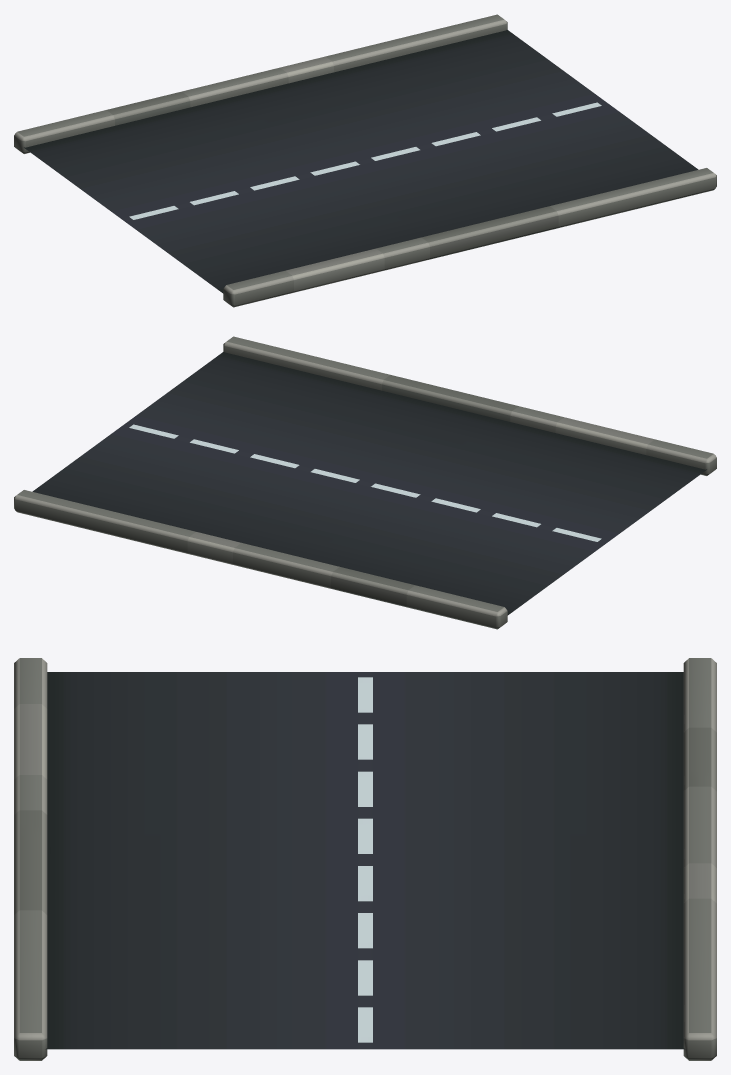
The model's file is road_straight.glb.
3 views of the same model, one above another, from view 1: azimuth 30°, elevation 25°; view 2: azimuth 150°, elevation 25°; view 3: azimuth 270°, elevation 25° (orthographic). The views are drawn at different scales.
Parts seen in each view (by area): view 1: road_section_x8; view 2: road_section_x8; view 3: road_section_x8.
Boxes of the visible parts, x1,y1,x2,y2 form: road_section_x8: (14, 14, 716, 307); road_section_x8: (14, 336, 716, 629); road_section_x8: (14, 658, 716, 1060).
Bounding box in the file's own units: 16.1 × 0.55 × 12.6.
1 material, 1 textured.
